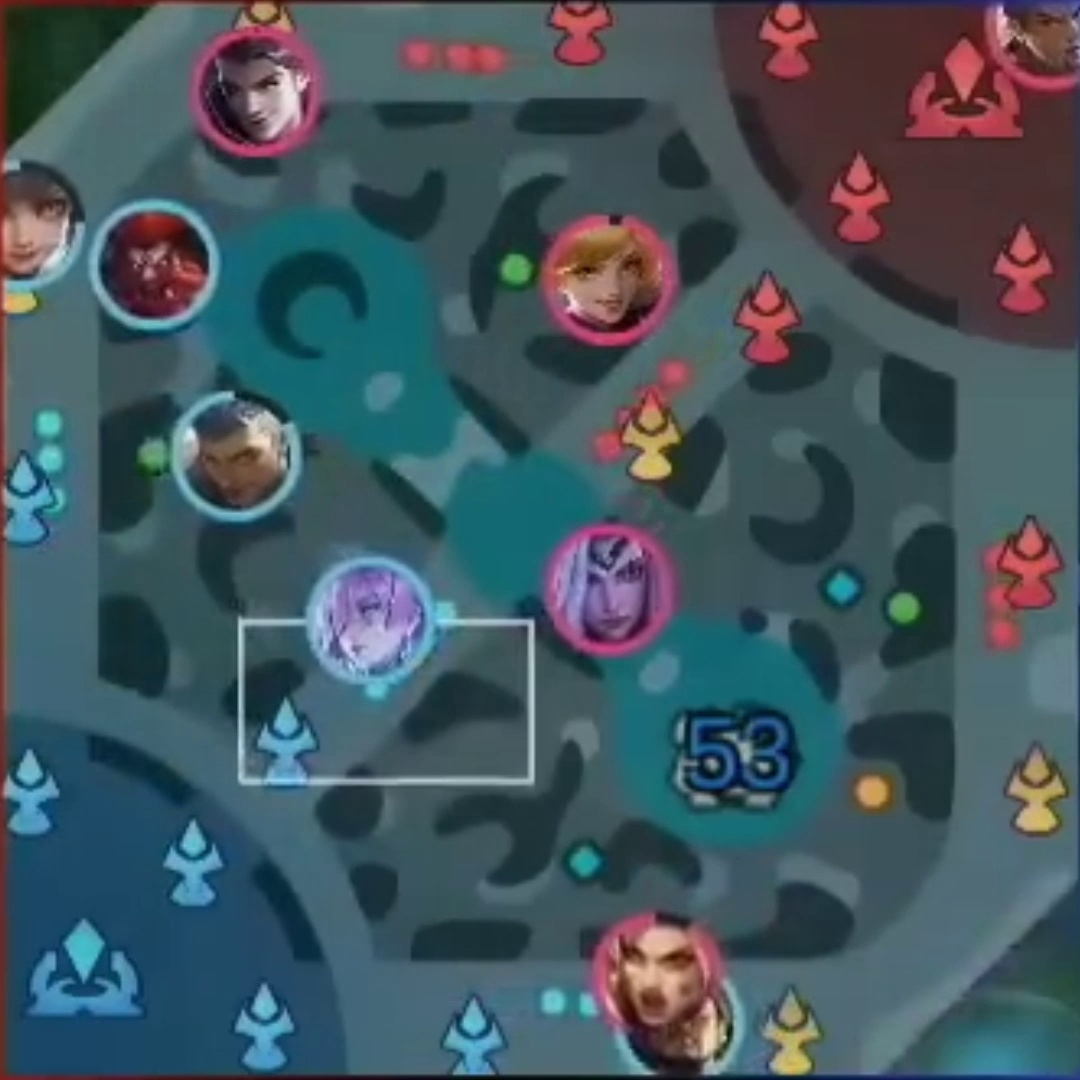Claude: (214, 45, 304, 139)
Fanny: (561, 236, 654, 327)
Fredrinn: (187, 409, 280, 509)
Lapu-Lapu: (659, 1004, 722, 1063)
Masha: (618, 928, 697, 1020)
Minotaur: (106, 215, 191, 309)
Novaria: (322, 574, 414, 670)
Valentina: (562, 542, 650, 644)
Wanwan: (5, 167, 75, 274)
